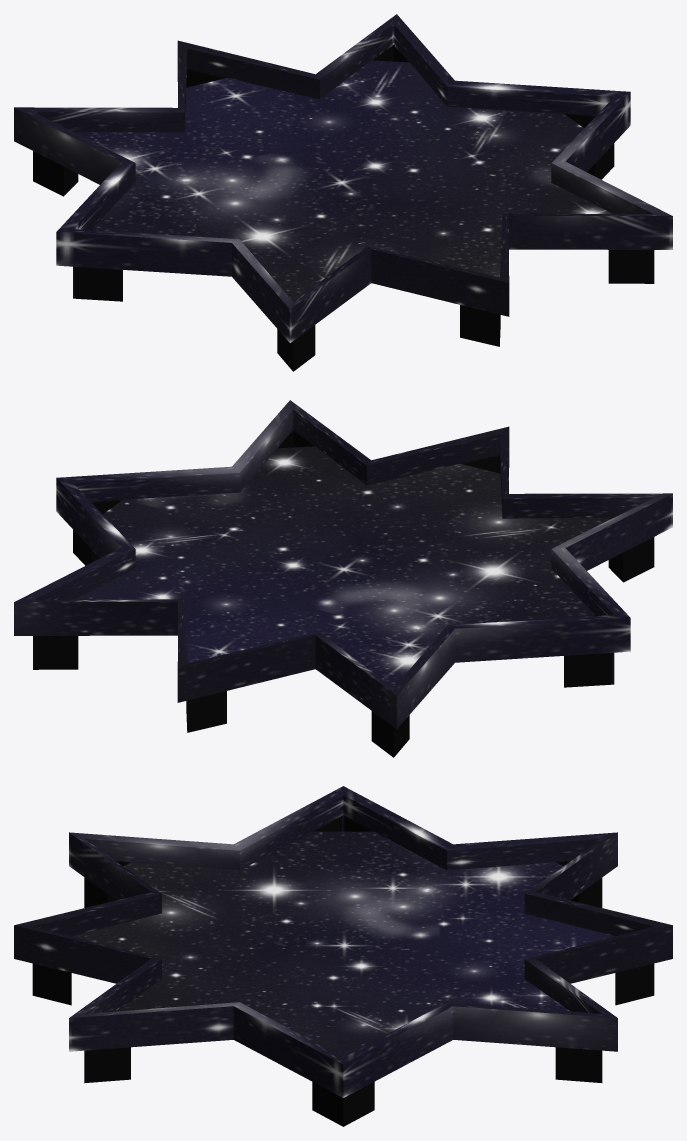
The model's file is testMap.fbx.
3 views of the same model, one above another, from view 1: azimuth 30°, elevation 25°; view 2: azimuth 150°, elevation 25°; view 3: azimuth 270°, elevation 25° (orthographic).
Parts seen in each view (by area): view 1: polySurface1, polySurface2; view 2: polySurface1, polySurface2; view 3: polySurface1, polySurface2.
Part boxes in pixels (box(x1,y1,x2,y2)): polySurface1: box(33, 44, 654, 371); polySurface2: box(14, 14, 672, 342); polySurface1: box(33, 430, 654, 757); polySurface2: box(14, 400, 672, 729); polySurface1: box(32, 815, 654, 1126); polySurface2: box(14, 786, 672, 1097).
Bounding box in the file's own units: 25.46 × 3 × 25.45.
